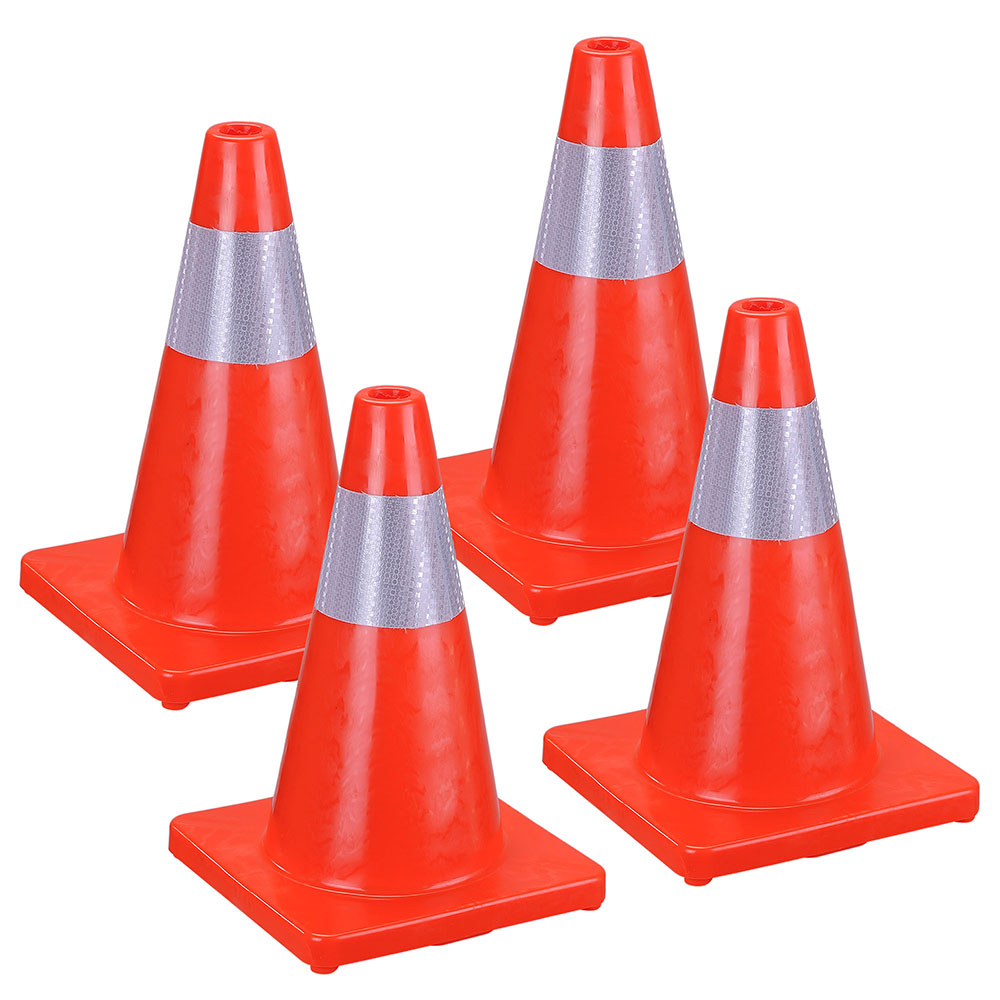cone: (538, 295, 979, 888), (170, 383, 609, 973), (17, 119, 448, 713), (414, 34, 809, 631)
